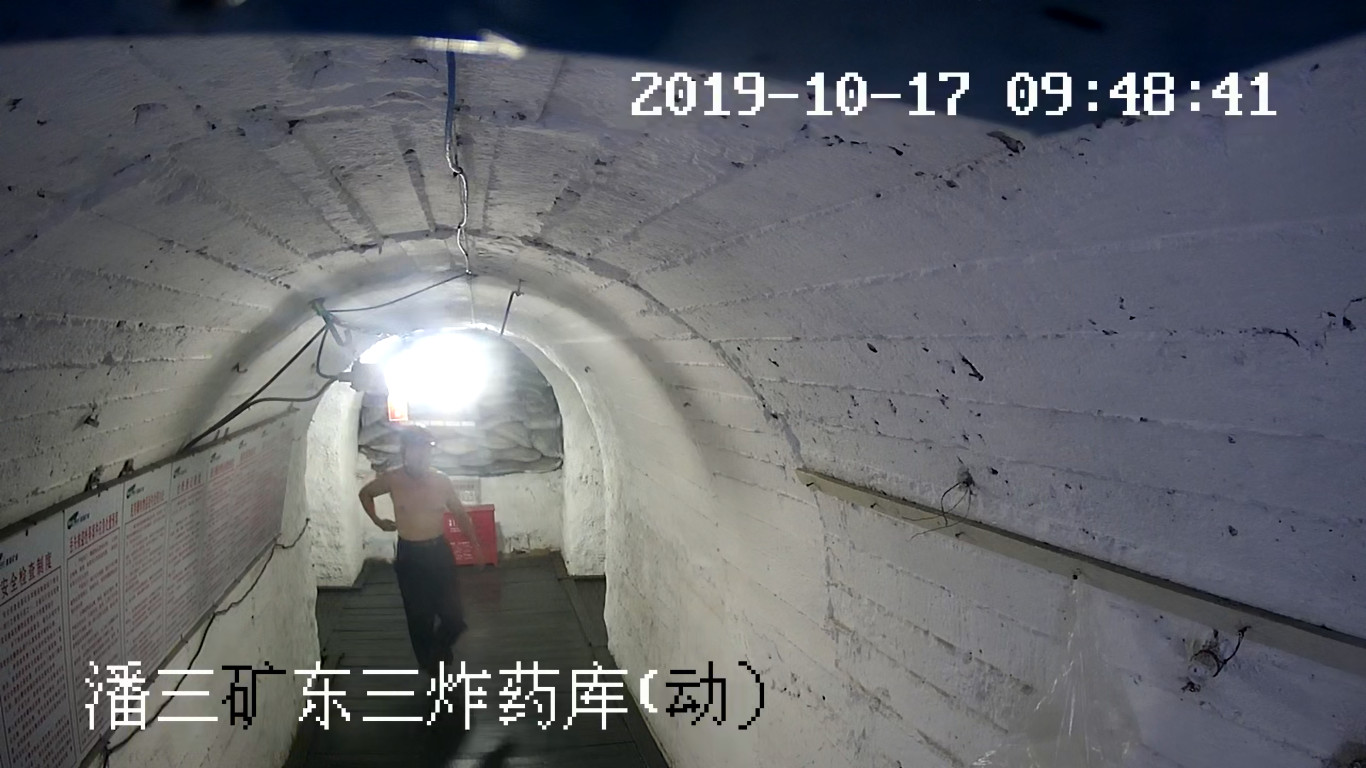helmet: (399, 423, 437, 448)
